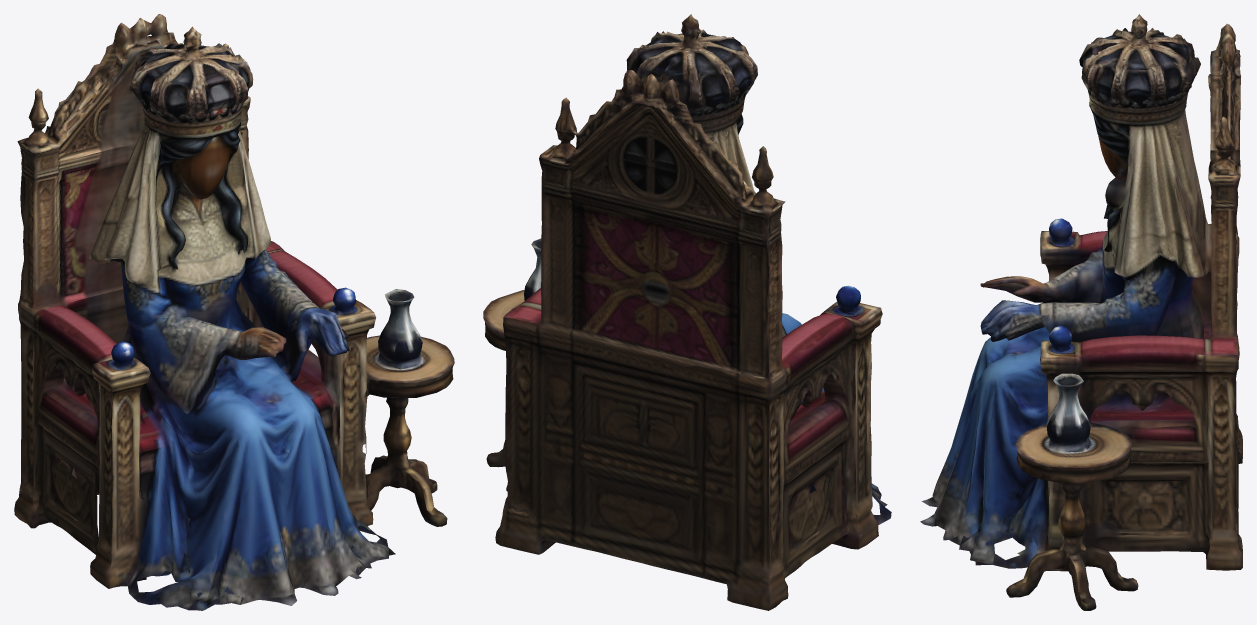
File: Faceless_Queen.glb
The picture shows the model from 3 angles, left to right: view 1: azimuth 30°, elevation 25°; view 2: azimuth 150°, elevation 25°; view 3: azimuth 270°, elevation 25°; orthographic projection. The views are drawn at different scales.
Parts seen in each view (by area): view 1: QueenOnThrone; view 2: QueenOnThrone; view 3: QueenOnThrone.
Part boxes in pixels (left/top/right/bottom): QueenOnThrone: left=14, top=14, right=454, bottom=610; QueenOnThrone: left=483, top=14, right=891, bottom=610; QueenOnThrone: left=920, top=14, right=1242, bottom=610.
Size of the model in its own units: 1.19 by 1.6 by 0.9505.
Materials: 1 (1 with a texture image).
